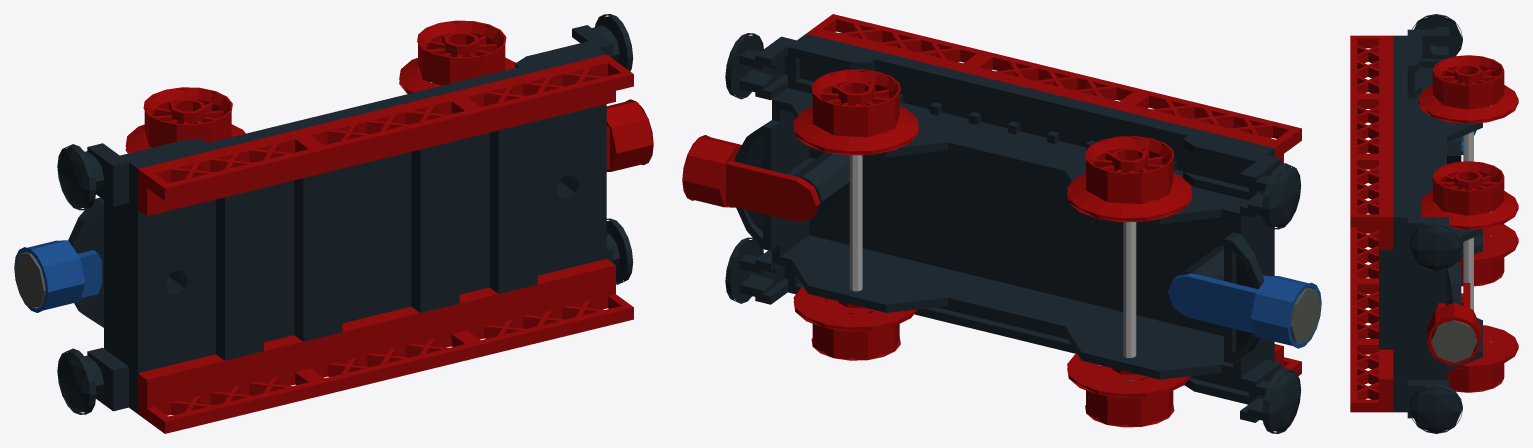
Rendered from car-transport-wagon.glb.
The picture shows the model from 3 angles, left to right: view 1: azimuth 30°, elevation 25°; view 2: azimuth 150°, elevation 25°; view 3: azimuth 270°, elevation 25°; orthographic projection. The views are drawn at different scales.
Bounding box in the file's own units: 125 × 52 × 37.6.
